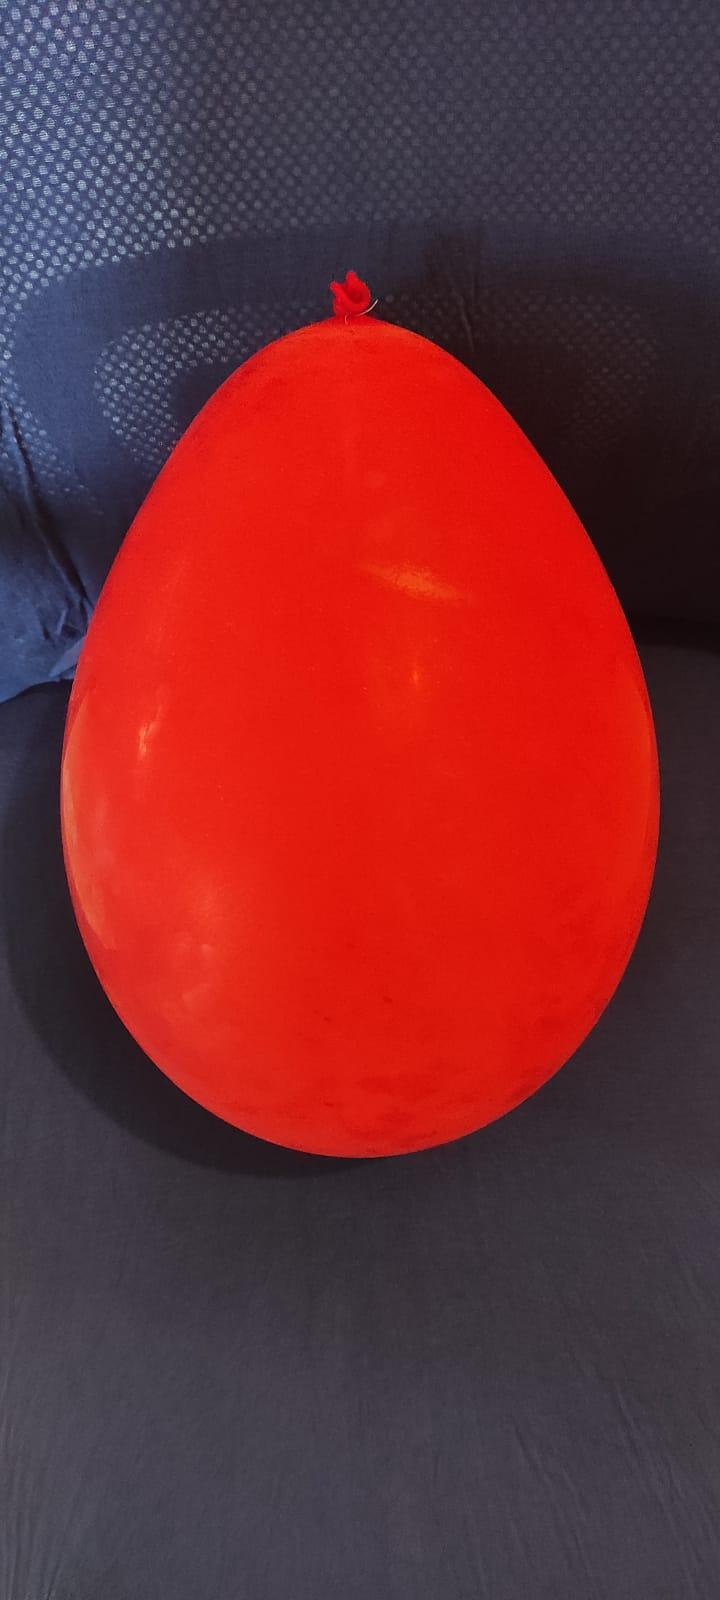red: (60, 270, 670, 1156)
